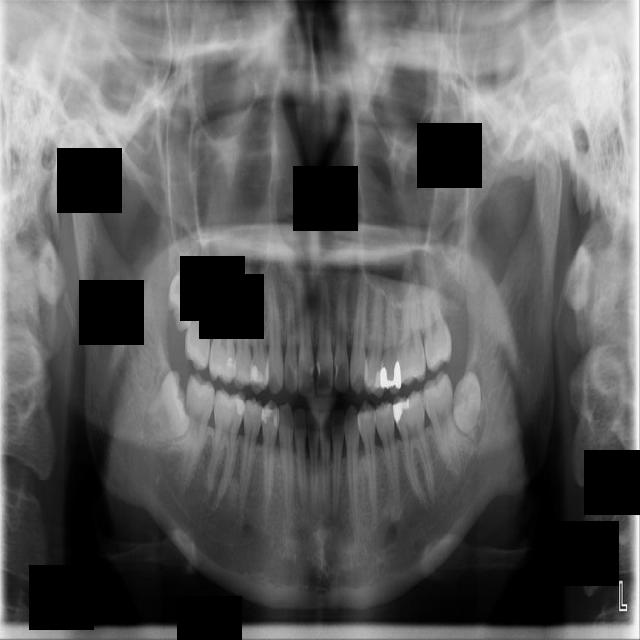3M ESPE Implant: (162, 216, 214, 333)
52: (389, 389, 433, 434), (205, 340, 241, 385), (213, 390, 247, 432), (364, 357, 384, 398), (316, 354, 335, 396), (381, 356, 401, 395), (260, 400, 280, 438), (298, 358, 316, 397), (251, 355, 269, 393), (336, 352, 349, 389), (315, 362, 321, 380), (309, 366, 314, 380)
73: (618, 617, 628, 623)
BioHorizons Implant: (421, 237, 453, 374)
Biomet 3i Implant: (446, 369, 492, 447)
Blue Sky Bio Implant: (420, 370, 463, 478)
Caries: (182, 244, 220, 371)
Implant: (179, 373, 217, 498)
Keystone Dental Implant: (136, 369, 197, 446)
